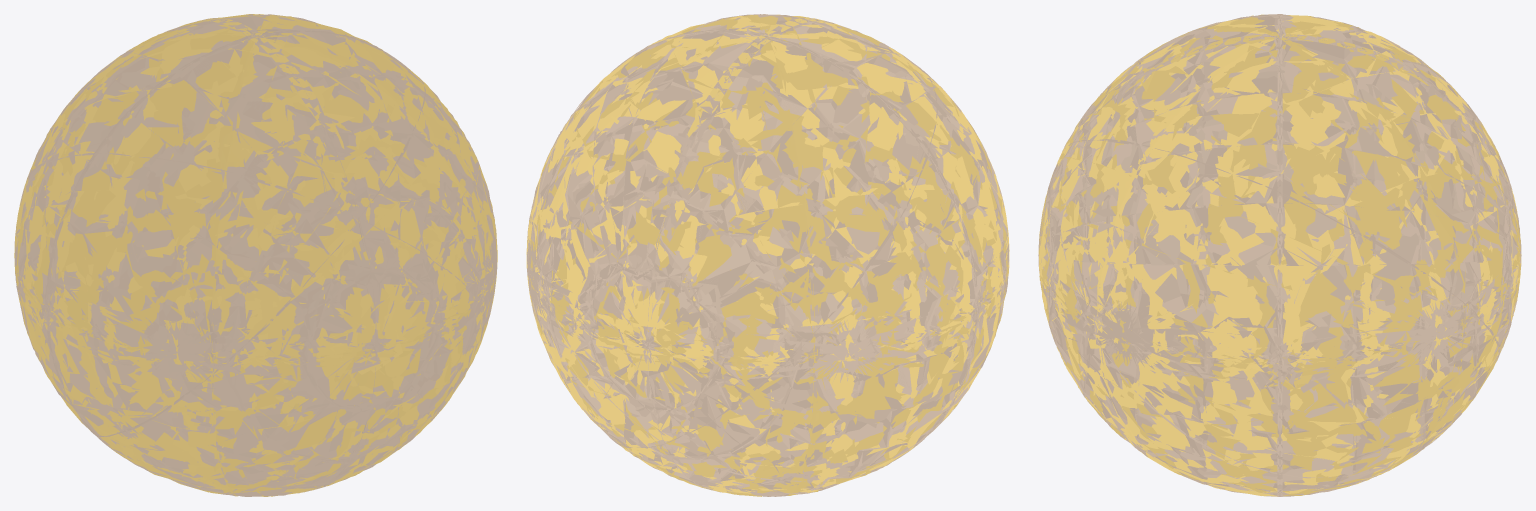
Rendered from mud-north.glb.
3 views of the same model, side by side, from view 1: azimuth 30°, elevation 25°; view 2: azimuth 150°, elevation 25°; view 3: azimuth 270°, elevation 25° (orthographic).
Parts seen in each view (by area): view 1: anodes, mudmat; view 2: mudmat, anodes; view 3: anodes, mudmat.
Boxes of the visible parts, left/top/right/bottom form: anodes: left=14, top=14, right=497, bottom=496; mudmat: left=14, top=14, right=497, bottom=496; mudmat: left=527, top=14, right=1009, bottom=496; anodes: left=526, top=14, right=1009, bottom=496; anodes: left=1038, top=14, right=1521, bottom=496; mudmat: left=1038, top=14, right=1521, bottom=496.
Bounding box in the file's own units: 2 × 2 × 2.
